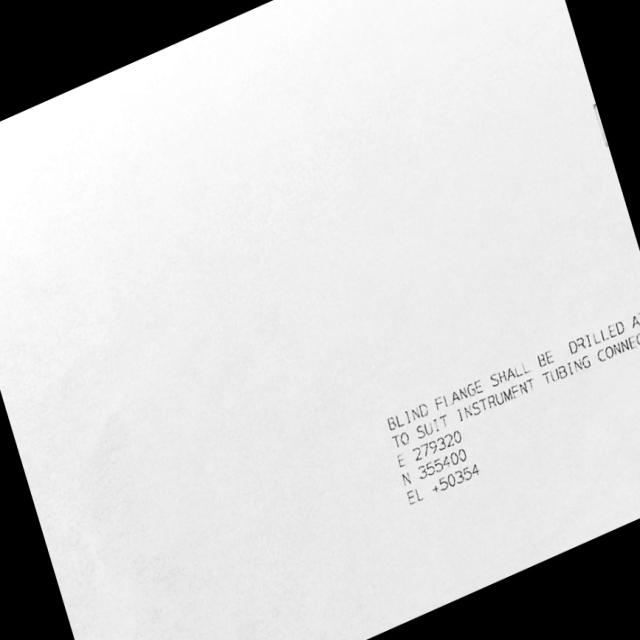other: (385, 306, 639, 517)
